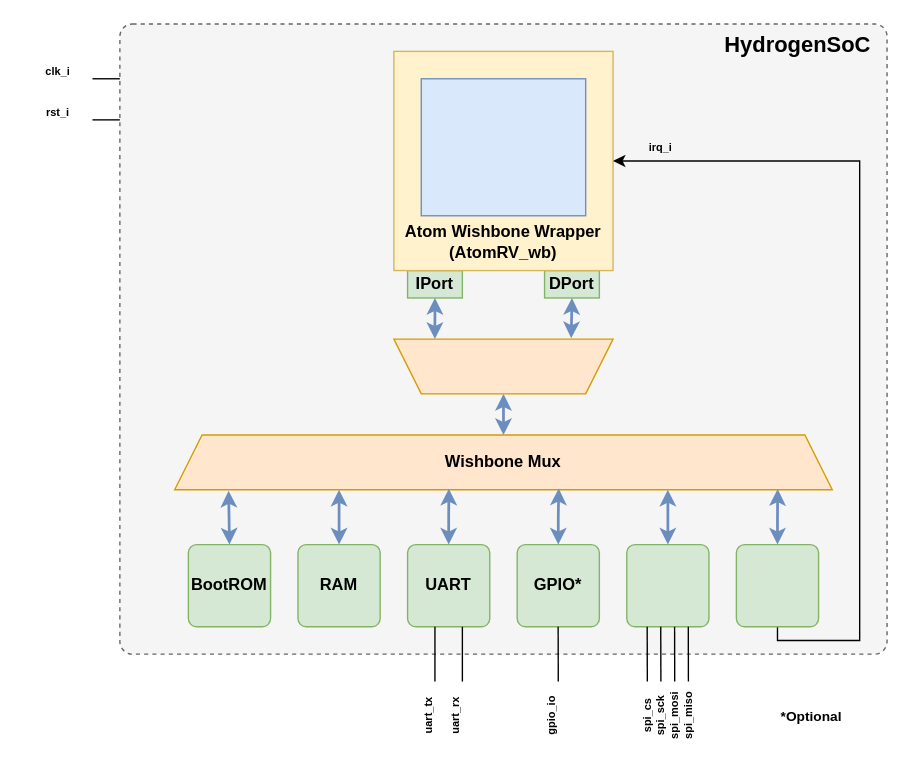
The diagram is 911 pixels wide and 774 high, and some of its shapes have lost their labels. The shapes that lost their labels are listed below. From the top down, each one's centre as x and y in pixels, then its label:
At [503,146]: "Atom CPU (AtomRV)".
At [503,366]: "Wishbone Arbiter".
At [667,585]: "SPI*".
At [777,585]: "Timer*".
